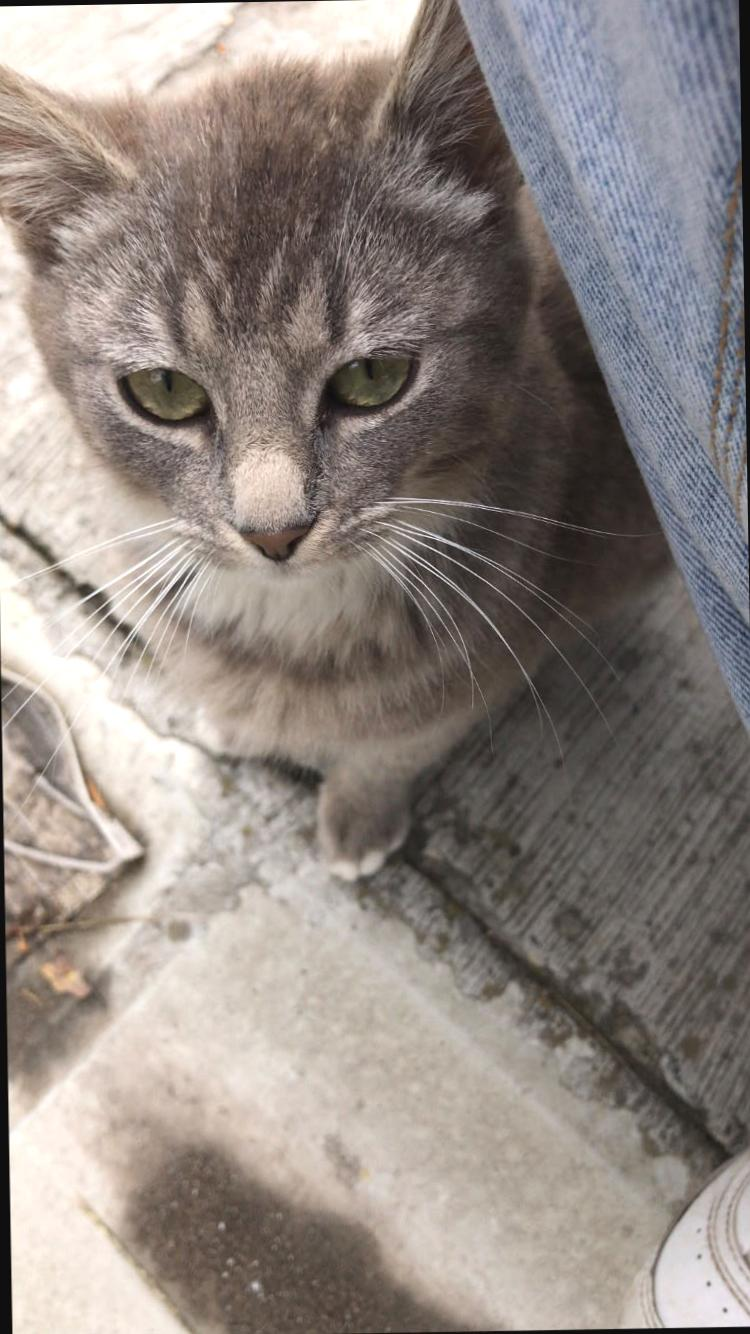macka: (0, 0, 674, 889)
